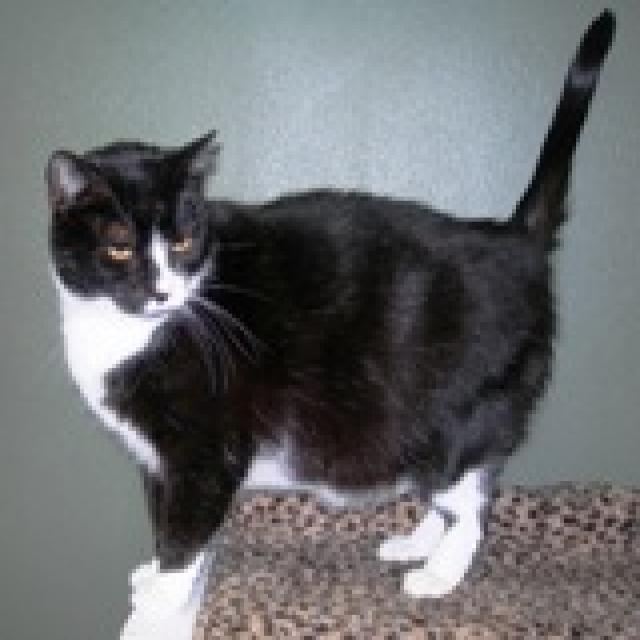Cats: (40, 4, 616, 598)
